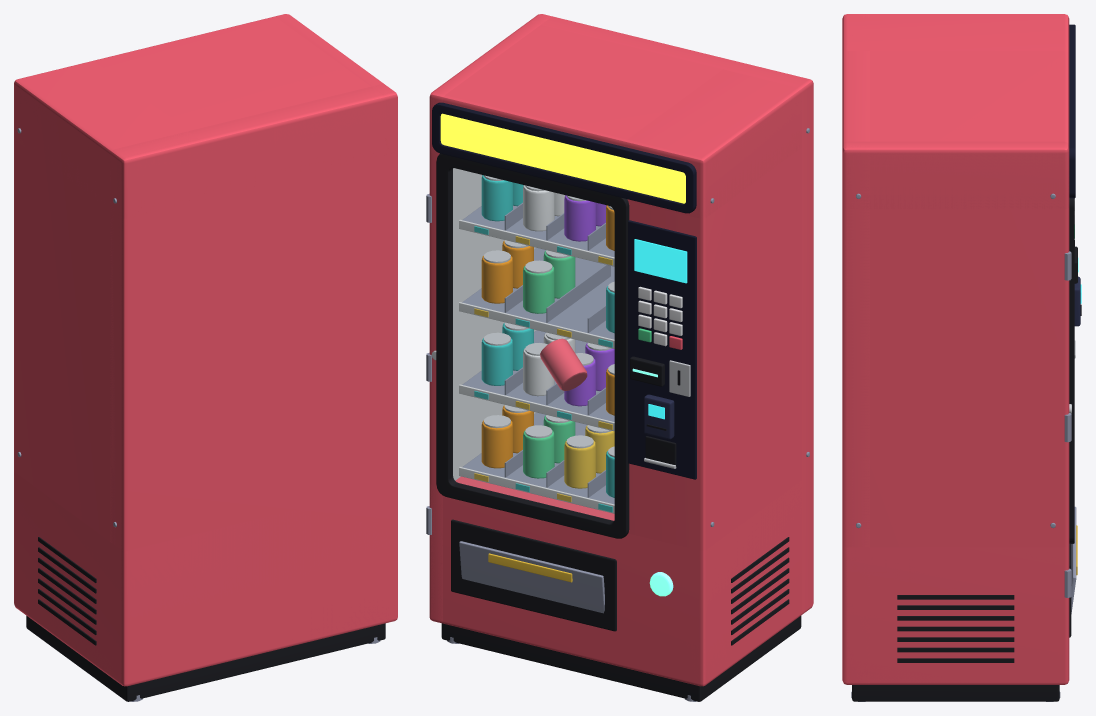
File: vending_machine.glb
3 renders of one model, left to right at view 1: azimuth 30°, elevation 25°; view 2: azimuth 150°, elevation 25°; view 3: azimuth 270°, elevation 25°, orthographic.
Parts seen in each view (by area): view 1: Body; view 2: Body; view 3: Body.
Boxes of the visible parts, box(x1,y1,x2,y2) form: Body: box(14, 14, 397, 701); Body: box(426, 14, 813, 701); Body: box(842, 14, 1081, 701).
Bounding box in the file's own units: 1.01 × 1.9 × 0.738.
